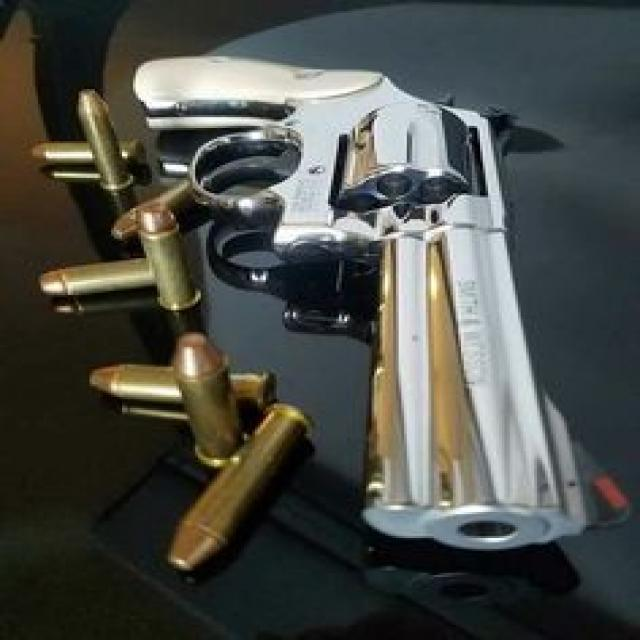revolver: (110, 29, 610, 562)
